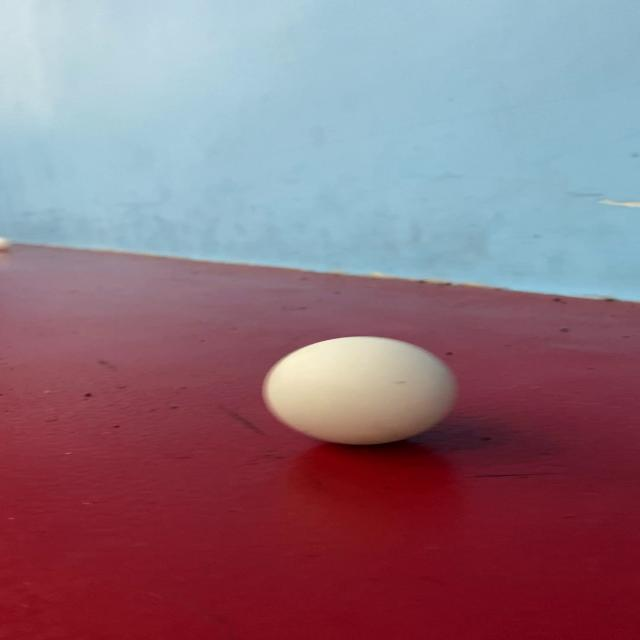ping-pong-ball: (254, 331, 468, 448)
